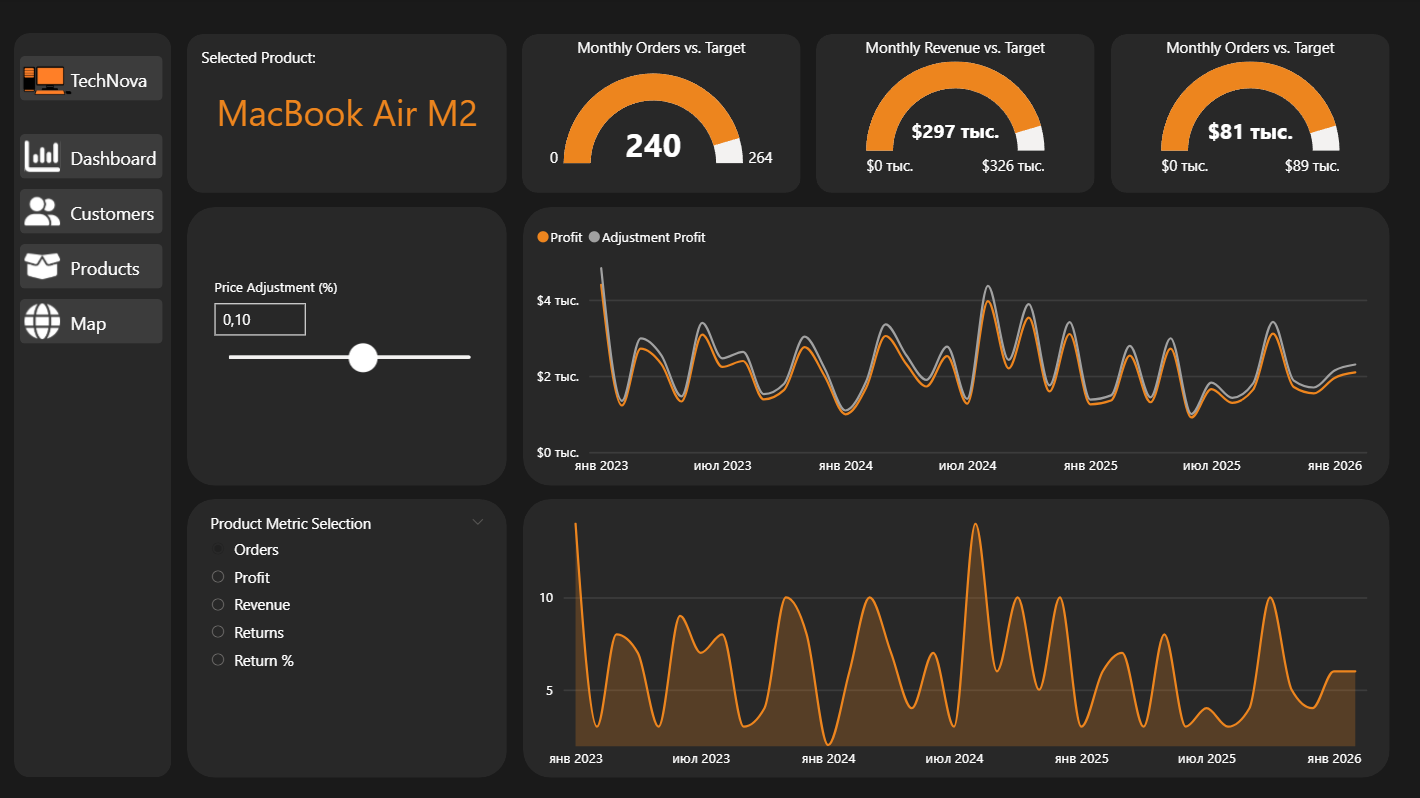

The page's visual inventory and layout, read from the dashboard file:
{"tool":"powerbi","page":{"name":"Products","canvas":[1280,720],"ordinal":2},"visuals":[{"type":"shape","box":[15.3,31.8,141.2,668.2],"z":0},{"type":"shape","box":[21,52,128,40],"z":500,"group":"g5"},{"type":"shape","box":[21,122,128,40],"z":500,"group":"g1"},{"type":"shape","box":[21,171.3,128,40],"z":500,"group":"g2"},{"type":"shape","box":[21,220.7,128,40],"z":500,"group":"g3"},{"type":"shape","box":[21,270,128,40],"z":500,"group":"g4"},{"type":"shape","box":[170.6,31.9,287.3,142.7],"z":1000},{"type":"actionButton","box":[21,122,46,40],"z":1000,"group":"g1"},{"type":"actionButton","box":[21,171.3,46,40],"z":1000,"group":"g2"},{"type":"actionButton","box":[21,220.7,46,40],"z":1000,"group":"g3"},{"type":"actionButton","box":[21,270,46,40],"z":1000,"group":"g4"},{"type":"textbox","box":[61,57,95,35],"z":2000,"group":"g5"},{"type":"card","title":"Unique Customers","fields":{"Values":["Min(dim_products.product_name)"]},"box":[170.6,61.9,287.3,81.7],"z":2000},{"type":"textbox","box":[61,127,95,35],"z":2000,"group":"g1"},{"type":"textbox","box":[61,176.3,95,35],"z":2000,"group":"g2"},{"type":"textbox","box":[61,225.7,95,35],"z":2000,"group":"g3"},{"type":"textbox","box":[61,275,95,35],"z":2000,"group":"g4"},{"type":"shape","box":[999.7,31.9,250.4,142.7],"z":3000},{"type":"shape","box":[471.6,31.9,250.4,142.7],"z":4000},{"type":"shape","box":[735.6,31.9,250.4,142.7],"z":5000},{"type":"shape","box":[471.9,187.6,778.2,250.4],"z":6000},{"type":"shape","box":[471.9,449.9,778.2,250.4],"z":7000},{"type":"shape","box":[170.6,187.6,287.3,250.4],"z":8000},{"type":"shape","box":[170.6,449.9,287.3,250.4],"z":9000},{"type":"textbox","box":[178.9,39.5,242.8,32.5],"z":10000},{"type":"gauge","title":"Monthly Orders vs. Target","fields":{"MaxValue":["measure_table.Previous Month Target"],"Y":["measure_table.Order_Item_Quantity"]},"box":[486.8,35.3,219.7,134],"z":11000},{"type":"gauge","title":"Monthly Revenue vs. Target","fields":{"Y":["measure_table.Total_Revenue"],"MaxValue":["measure_table.Revenue Target"]},"box":[750.9,35.3,219.7,134],"z":12000},{"type":"gauge","title":"Monthly Orders vs. Target","fields":{"Y":["measure_table.Total_Profit"],"MaxValue":["measure_table.Profit Target"]},"box":[1014.9,35.3,219.7,134],"z":13000},{"type":"lineChart","title":"Monthly Revenue Performance","fields":{"Category":["dim_calendar.Start of Month"],"Y":["measure_table.Total_Profit","measure_table.Price Adjustment Profit"]},"box":[479.7,194.5,770,242.9],"z":14000},{"type":"lineChart","title":"Monthly Revenue Performance","fields":{"Y":["measure_table.Order_Item_Quantity"],"Category":["dim_calendar.Start of Month"]},"box":[479.7,457.6,770,242.9],"z":15000},{"type":"slicer","fields":{"Values":["Параметр.Параметр"]},"box":[178.4,457.6,271.1,234.8],"z":16000},{"type":"slicer","fields":{"Values":["Price Adjustment (%).Price Adjustment (%)"]},"box":[182.4,245.9,264.1,132],"z":17000},{"type":"group","id":"g1","title":"Группа 1","box":[21,122,135,40],"z":19000},{"type":"group","id":"g2","title":"Группа 1","box":[21,171.3,135,40],"z":20000},{"type":"group","id":"g3","title":"Группа 1","box":[21,220.7,135,40],"z":21000},{"type":"group","id":"g4","title":"Группа 1","box":[21,270,135,40],"z":22000},{"type":"group","id":"g5","title":"Группа 1","box":[21,52,135,40],"z":23000},{"type":"image","box":[19,51,53,47],"z":24000}]}

Visuals, with their boxes in screenshot pixels (x1, y1, x2, y2), scaled from the page's 1280x720 canvas onto the 1420x798 screenshot:
shape: rect(17, 35, 174, 776)
shape: rect(23, 58, 165, 102)
shape: rect(23, 135, 165, 180)
shape: rect(23, 190, 165, 234)
shape: rect(23, 245, 165, 289)
shape: rect(23, 299, 165, 344)
shape: rect(189, 35, 508, 194)
actionButton: rect(23, 135, 74, 180)
actionButton: rect(23, 190, 74, 234)
actionButton: rect(23, 245, 74, 289)
actionButton: rect(23, 299, 74, 344)
textbox: rect(68, 63, 173, 102)
"Unique Customers" card: rect(189, 69, 508, 159)
textbox: rect(68, 141, 173, 180)
textbox: rect(68, 195, 173, 234)
textbox: rect(68, 250, 173, 289)
textbox: rect(68, 305, 173, 344)
shape: rect(1109, 35, 1387, 194)
shape: rect(523, 35, 801, 194)
shape: rect(816, 35, 1094, 194)
shape: rect(524, 208, 1387, 485)
shape: rect(524, 499, 1387, 776)
shape: rect(189, 208, 508, 485)
shape: rect(189, 499, 508, 776)
textbox: rect(198, 44, 468, 80)
"Monthly Orders vs. Target" gauge: rect(540, 39, 784, 188)
"Monthly Revenue vs. Target" gauge: rect(833, 39, 1077, 188)
"Monthly Orders vs. Target" gauge: rect(1126, 39, 1370, 188)
"Monthly Revenue Performance" lineChart: rect(532, 216, 1386, 485)
"Monthly Revenue Performance" lineChart: rect(532, 507, 1386, 776)
slicer - Параметр.Параметр: rect(198, 507, 499, 767)
slicer - Price Adjustment (%).Price Adjustment (%): rect(202, 273, 495, 419)
"Группа 1" group: rect(23, 135, 173, 180)
"Группа 1" group: rect(23, 190, 173, 234)
"Группа 1" group: rect(23, 245, 173, 289)
"Группа 1" group: rect(23, 299, 173, 344)
"Группа 1" group: rect(23, 58, 173, 102)
image: rect(21, 57, 80, 109)
